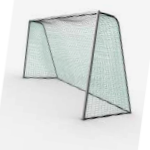goals: (21, 8, 133, 121)
